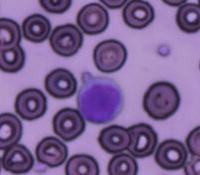L: (76, 76, 125, 124)
